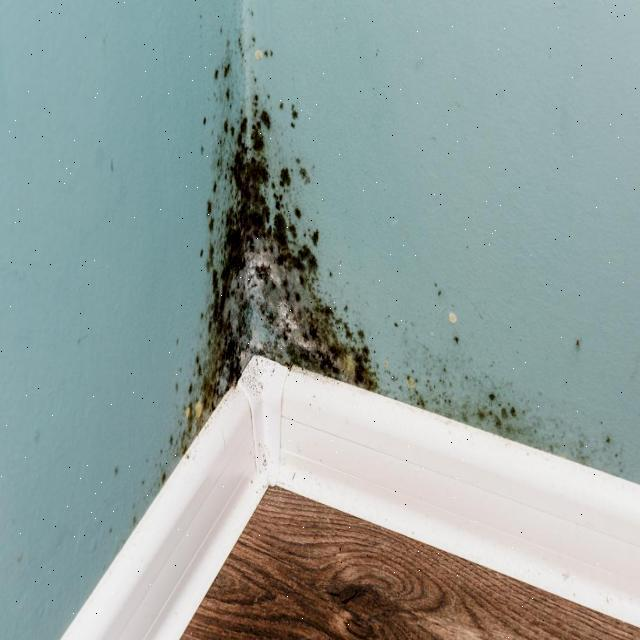dampens: (189, 19, 388, 468)
